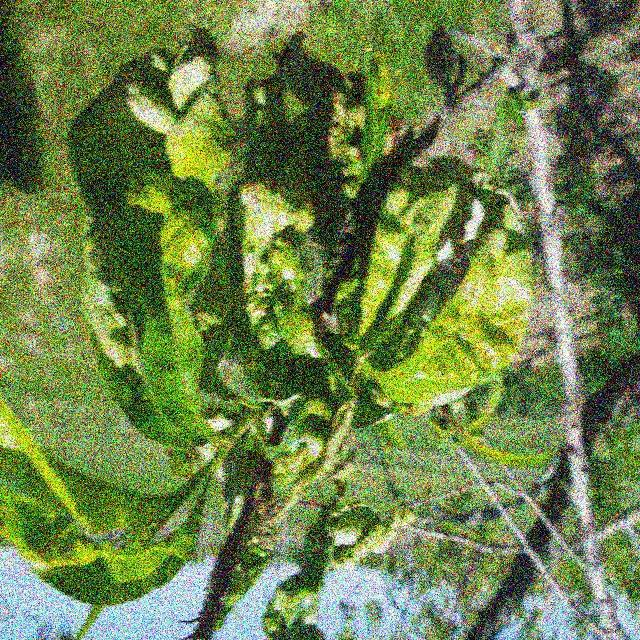leaf_curl: (4, 47, 271, 446), (284, 151, 618, 435)
